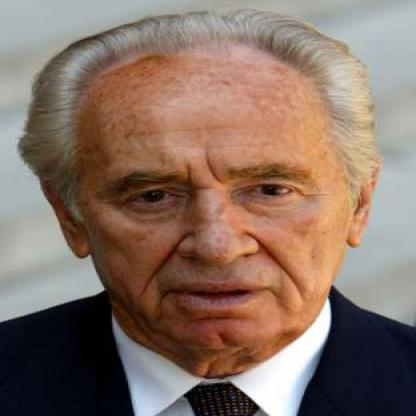face: (76, 34, 355, 355)
